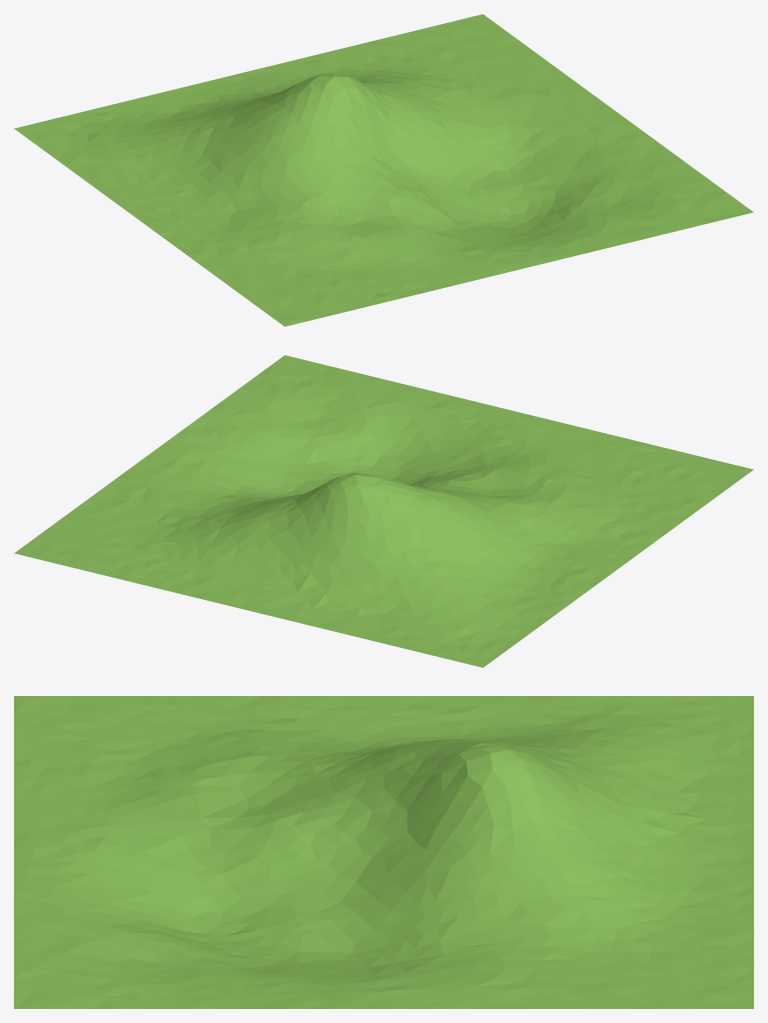
The model's file is MT_Terrain_L_b_17_LOD.fbx.
3 views of the same model, one above another, from view 1: azimuth 30°, elevation 25°; view 2: azimuth 150°, elevation 25°; view 3: azimuth 270°, elevation 25° (orthographic). The views are drawn at different scales.
Visible parts, largest first — view 1: MT_Terrain_L_b_17_LOD0; view 2: MT_Terrain_L_b_17_LOD0; view 3: MT_Terrain_L_b_17_LOD0.
Boxes of the visible parts, left/top/right/bottom form: MT_Terrain_L_b_17_LOD0: left=14, top=14, right=753, bottom=326; MT_Terrain_L_b_17_LOD0: left=14, top=355, right=753, bottom=667; MT_Terrain_L_b_17_LOD0: left=14, top=696, right=753, bottom=1008.
Size of what is drawn, in the model's own units: 10000 by 1838 by 10000.
